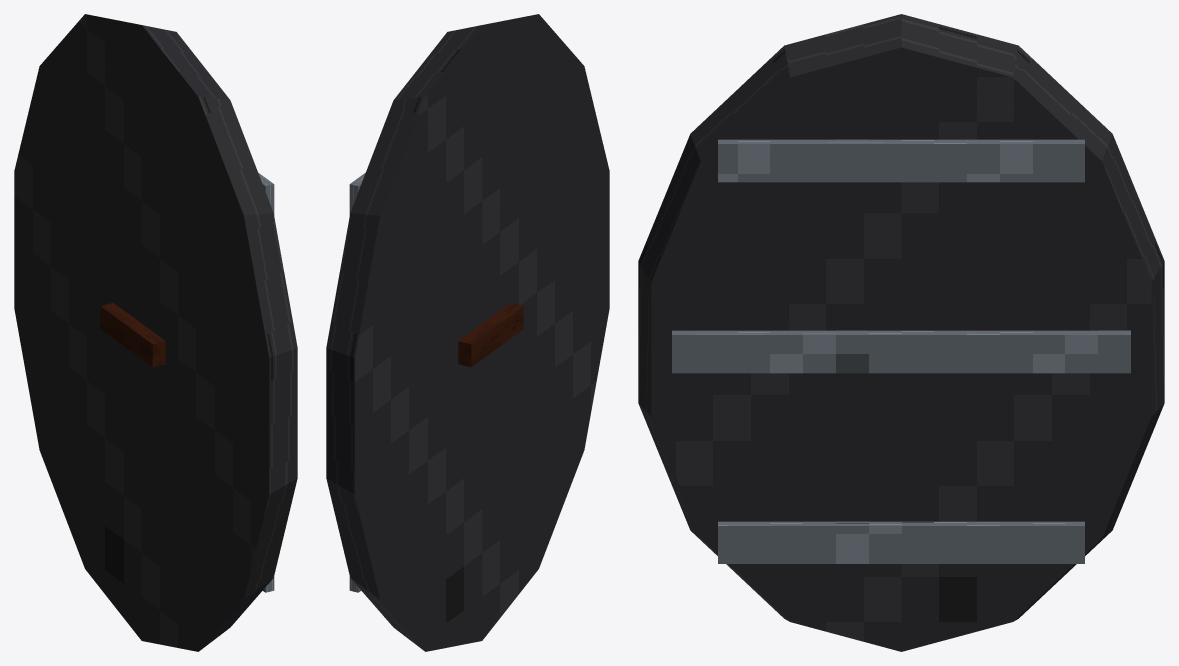
File: lamina.glb
3 views of the same model, side by side, from view 1: azimuth 30°, elevation 25°; view 2: azimuth 150°, elevation 25°; view 3: azimuth 270°, elevation 25° (orthographic). The views are drawn at different scales.
Parts seen in each view (by area): view 1: tablero, asa; view 2: tablero, asa; view 3: tablero, laminas.
Part boxes in pixels (x1,y1,x2,y2): tablero: [14, 14, 297, 651]; asa: [100, 303, 165, 367]; tablero: [326, 14, 609, 651]; asa: [458, 303, 523, 367]; tablero: [638, 14, 1164, 651]; laminas: [672, 139, 1130, 563].
Size of the model in its own units: 0.08 by 0.8 by 0.6.
1 material, 1 textured.
